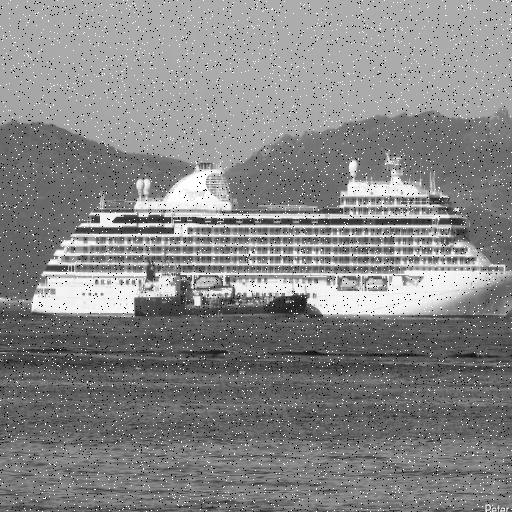cruises: (27, 145, 512, 327)
